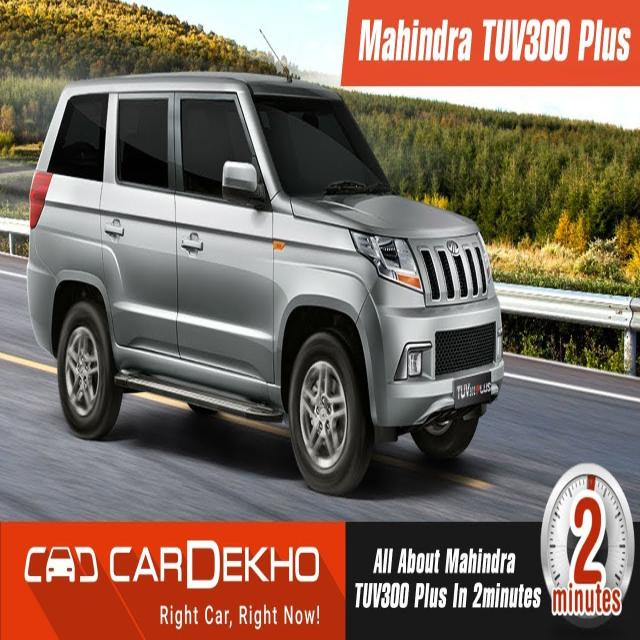light_vehicle: (21, 66, 508, 481)
